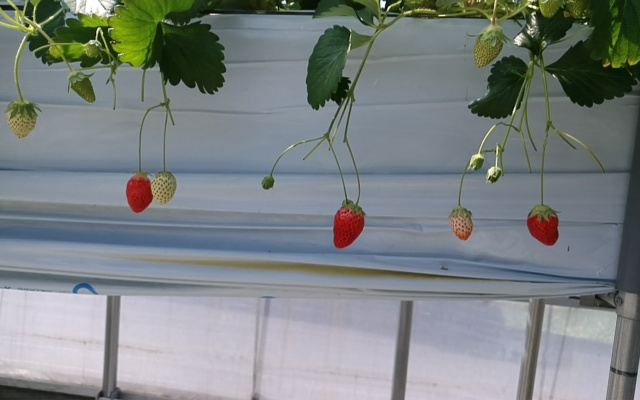GreenStrawberry: (471, 23, 505, 69), (5, 98, 38, 141), (68, 71, 97, 106), (151, 169, 178, 206), (448, 208, 474, 242)
MatureStrawberry: (330, 197, 367, 249), (525, 203, 560, 247), (122, 170, 154, 215)
